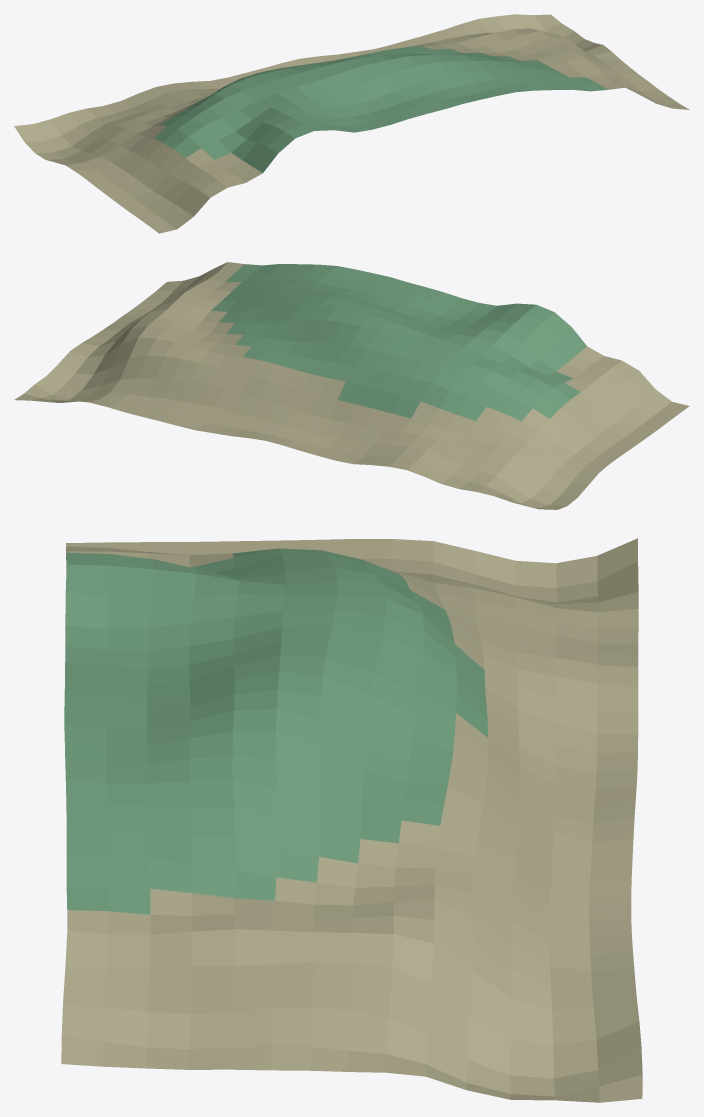
Rendered from one.fbx.
The picture shows the model from 3 angles, top to bottom: view 1: azimuth 30°, elevation 25°; view 2: azimuth 150°, elevation 25°; view 3: azimuth 270°, elevation 25°; orthographic projection. The views are drawn at different scales.
Visible parts, largest first — view 1: Island; view 2: Island; view 3: Island.
Boxes of the visible parts, x1,y1,x2,y2 form: Island: (14, 14, 689, 233); Island: (14, 262, 689, 509); Island: (61, 538, 642, 1102).
Bounding box in the file's own units: 40.21 × 6.48 × 18.96.
